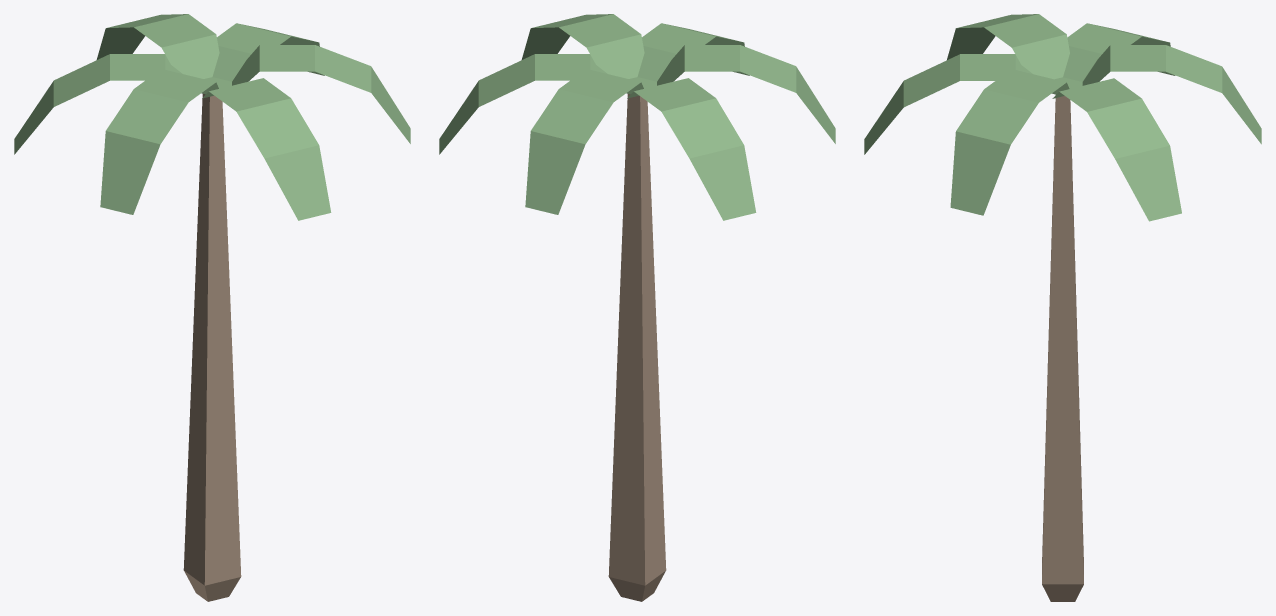
Rendered from palm_a.glb.
The picture shows the model from 3 angles, left to right: view 1: azimuth 30°, elevation 25°; view 2: azimuth 150°, elevation 25°; view 3: azimuth 270°, elevation 25°; orthographic projection.
Visible parts, largest first — view 1: palm_a; view 2: palm_a; view 3: palm_a.
Part boxes in pixels (x1,y1,x2,y2): palm_a: (14,14,410,601); palm_a: (439,14,835,601); palm_a: (864,14,1261,601).
Bounding box in the file's own units: 44.47 × 72 × 48.14.
